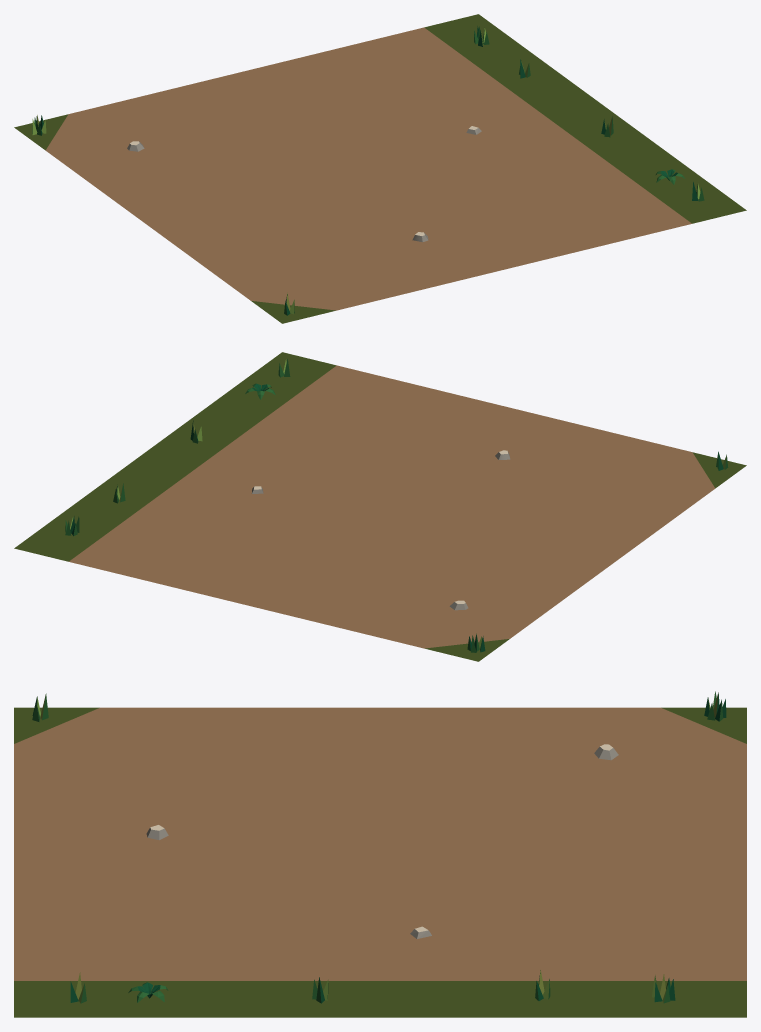
The model's file is TB_Env_GroundDB.FBX.
The picture shows the model from 3 angles, top to bottom: view 1: azimuth 30°, elevation 25°; view 2: azimuth 150°, elevation 25°; view 3: azimuth 270°, elevation 25°; orthographic projection. The views are drawn at different scales.
Visible parts, largest first — view 1: TB_Env_GroundDB; view 2: TB_Env_GroundDB; view 3: TB_Env_GroundDB.
Part boxes in pixels (left/top/right/bottom): TB_Env_GroundDB: left=14, top=14, right=746, bottom=323; TB_Env_GroundDB: left=14, top=352, right=746, bottom=661; TB_Env_GroundDB: left=14, top=691, right=746, bottom=1017.
Bounding box in the file's own units: 10 × 0.394 × 10.
